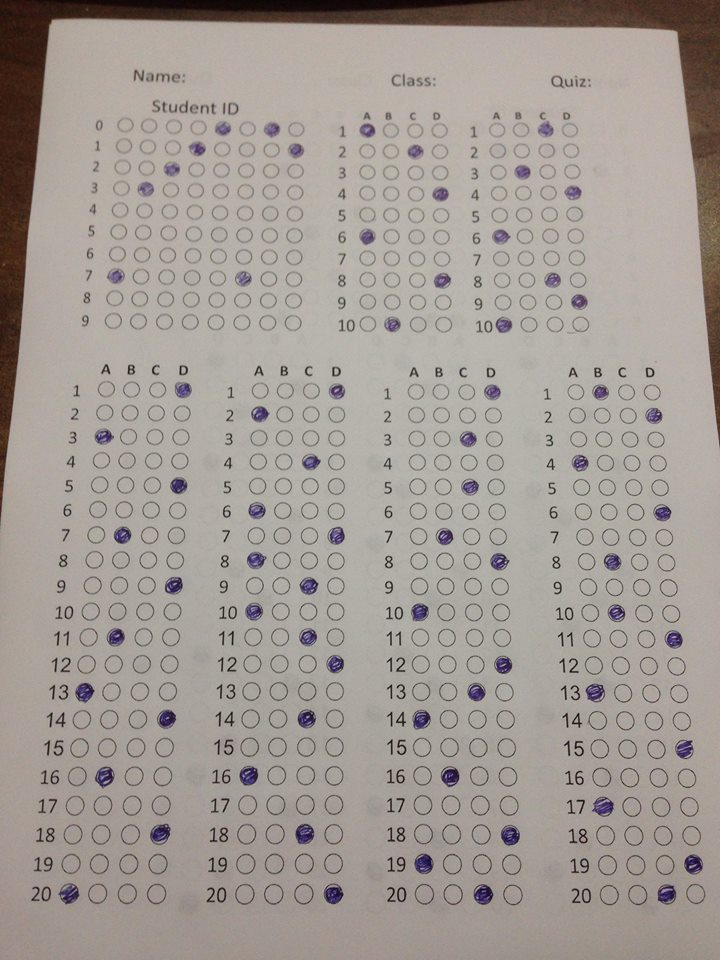not-c: (260, 882, 285, 907), (263, 823, 289, 847), (622, 822, 646, 848), (322, 765, 348, 788), (118, 881, 140, 908), (322, 822, 346, 846), (502, 883, 526, 907), (589, 766, 613, 790), (626, 883, 650, 907), (323, 793, 346, 818), (436, 736, 461, 759), (495, 737, 518, 762), (467, 767, 492, 790), (595, 853, 620, 876), (292, 852, 314, 878), (125, 709, 149, 732), (498, 767, 522, 790), (676, 795, 700, 818), (684, 882, 708, 905), (146, 852, 171, 874), (323, 852, 345, 877), (232, 883, 257, 905), (617, 767, 642, 789), (592, 825, 617, 847), (130, 652, 153, 675), (159, 653, 182, 676), (117, 853, 140, 876), (292, 884, 315, 907), (464, 653, 487, 676), (411, 765, 434, 788), (620, 797, 643, 820), (682, 824, 705, 847), (86, 475, 110, 497), (411, 822, 435, 844), (675, 765, 697, 789), (150, 792, 171, 817), (90, 852, 111, 877), (297, 527, 322, 548), (408, 738, 433, 759), (409, 794, 434, 815), (582, 655, 607, 676), (134, 601, 157, 623), (159, 626, 182, 648), (60, 824, 83, 846), (89, 825, 112, 847), (87, 882, 109, 905), (270, 600, 293, 622), (295, 765, 317, 788), (442, 823, 464, 846), (653, 526, 676, 548), (671, 710, 694, 732), (123, 794, 144, 818), (147, 882, 168, 906), (294, 792, 315, 816), (440, 794, 461, 818), (613, 709, 634, 733), (643, 711, 667, 732), (598, 883, 619, 907), (58, 854, 83, 874), (405, 576, 431, 595), (68, 738, 90, 760), (300, 499, 322, 521), (238, 737, 260, 759), (266, 764, 288, 786), (489, 602, 511, 624), (413, 883, 435, 905), (646, 453, 668, 475), (627, 551, 649, 573), (624, 854, 646, 876), (169, 453, 192, 474), (136, 575, 159, 596), (271, 500, 294, 521), (323, 709, 346, 730), (235, 794, 258, 815), (235, 824, 258, 845), (482, 405, 503, 428), (463, 602, 484, 625), (442, 854, 465, 875), (444, 882, 465, 905), (644, 381, 665, 404), (622, 476, 645, 497), (582, 602, 603, 625), (588, 738, 611, 759), (652, 826, 675, 847), (154, 735, 174, 759), (243, 525, 267, 545), (323, 683, 347, 703), (633, 628, 657, 648), (647, 739, 667, 763), (158, 679, 177, 704), (162, 601, 184, 622), (128, 680, 149, 702), (93, 795, 114, 817), (326, 501, 347, 523), (267, 708, 289, 729), (323, 736, 344, 758), (264, 852, 285, 874), (406, 451, 428, 472), (407, 503, 429, 524), (410, 626, 431, 648), (464, 629, 486, 650), (439, 654, 460, 676), (495, 710, 516, 732), (472, 823, 493, 845), (502, 855, 523, 877), (668, 683, 690, 704), (65, 766, 88, 786), (65, 794, 85, 817), (326, 601, 346, 624), (491, 629, 514, 649), (436, 681, 459, 701), (592, 454, 615, 474), (577, 576, 600, 596), (655, 854, 675, 877), (355, 248, 379, 267), (76, 627, 100, 646), (151, 766, 175, 785), (324, 629, 348, 648), (141, 476, 162, 497), (167, 524, 188, 545), (104, 653, 125, 674), (120, 824, 141, 845), (242, 680, 263, 701), (268, 736, 289, 757), (458, 406, 479, 427), (462, 525, 483, 546), (488, 525, 509, 546), (411, 653, 432, 674), (472, 855, 493, 876), (565, 381, 586, 402), (604, 575, 625, 596), (667, 656, 688, 677), (614, 682, 635, 703), (642, 684, 663, 705), (617, 739, 638, 760), (232, 311, 252, 333), (170, 427, 192, 447), (85, 525, 107, 545), (109, 549, 131, 569), (132, 627, 154, 647), (73, 707, 93, 729), (98, 710, 118, 732), (124, 765, 144, 787), (299, 405, 321, 425), (270, 549, 292, 569), (270, 655, 290, 677), (268, 682, 290, 702), (296, 682, 318, 702), (407, 405, 429, 425), (431, 382, 453, 402), (490, 577, 512, 597), (437, 626, 457, 648), (468, 795, 490, 815), (499, 796, 521, 816), (618, 404, 638, 426), (568, 429, 590, 449), (594, 428, 614, 450), (596, 478, 618, 498), (656, 553, 676, 575), (580, 629, 602, 649), (608, 629, 628, 651), (648, 766, 668, 788), (257, 247, 280, 266), (405, 248, 428, 267), (107, 577, 130, 596), (496, 680, 515, 703), (651, 796, 670, 819), (327, 549, 345, 573), (637, 657, 661, 675), (406, 185, 427, 205), (432, 227, 452, 248), (87, 499, 108, 519), (168, 501, 189, 521), (275, 427, 295, 448), (273, 452, 294, 472), (326, 453, 347, 473), (245, 574, 265, 595), (298, 601, 318, 622), (270, 627, 291, 647), (298, 655, 319, 675), (240, 708, 261, 728), (265, 794, 285, 815), (237, 854, 258, 874), (461, 500, 481, 521), (463, 578, 484, 598), (436, 602, 457, 622), (468, 709, 488, 730), (616, 382, 636, 403), (593, 406, 613, 427), (573, 528, 594, 548), (628, 525, 648, 546), (635, 604, 655, 625), (588, 711, 608, 732), (519, 315, 541, 334), (98, 738, 117, 760), (125, 738, 147, 757), (326, 406, 348, 425), (271, 526, 293, 545), (406, 527, 428, 546), (435, 552, 457, 571), (440, 708, 459, 730), (469, 738, 488, 760), (630, 578, 652, 597), (662, 604, 684, 623), (298, 735, 316, 758), (597, 504, 620, 522), (262, 141, 282, 161), (284, 291, 304, 311), (139, 526, 159, 546), (165, 550, 185, 570), (101, 683, 121, 703), (300, 476, 320, 496), (272, 577, 292, 597), (658, 578, 678, 598), (157, 245, 178, 264), (131, 267, 152, 286), (232, 291, 253, 310), (122, 378, 141, 399), (250, 429, 271, 448), (242, 654, 263, 673), (432, 429, 453, 448), (647, 432, 668, 451), (573, 503, 594, 522), (406, 227, 428, 245), (93, 404, 115, 422), (172, 405, 194, 423), (325, 429, 347, 447), (247, 452, 269, 470), (242, 628, 264, 646), (433, 450, 451, 472), (458, 453, 480, 471), (612, 656, 630, 678), (89, 452, 112, 469), (211, 182, 230, 202), (260, 204, 280, 223), (283, 248, 303, 267), (106, 288, 125, 308), (181, 291, 201, 310), (257, 314, 277, 333), (358, 142, 378, 161), (382, 248, 401, 268), (408, 293, 428, 312), (543, 249, 563, 268), (121, 402, 140, 422), (119, 428, 138, 448), (118, 452, 138, 471), (76, 656, 96, 675), (302, 429, 322, 448), (248, 475, 267, 495), (326, 477, 345, 497), (435, 500, 454, 520), (458, 384, 478, 403), (486, 453, 505, 473), (409, 552, 428, 572), (437, 577, 456, 597), (650, 479, 670, 498), (601, 528, 620, 548), (286, 121, 307, 139), (210, 224, 228, 245), (234, 248, 255, 266), (182, 268, 203, 286), (282, 315, 303, 333), (431, 206, 452, 224), (431, 251, 452, 269), (434, 293, 455, 311), (146, 381, 167, 399), (146, 404, 167, 422), (84, 551, 105, 569), (273, 404, 294, 422), (299, 551, 320, 569), (484, 429, 505, 447), (356, 272, 378, 289), (406, 478, 428, 495), (435, 475, 452, 497), (576, 554, 598, 571), (406, 432, 429, 448), (236, 182, 255, 201), (159, 223, 178, 242), (109, 602, 128, 621), (274, 477, 293, 496), (464, 551, 483, 570), (237, 204, 255, 224), (381, 227, 401, 245), (382, 294, 402, 312), (487, 121, 507, 139), (564, 206, 584, 224), (492, 249, 512, 267), (568, 249, 588, 267), (145, 451, 163, 471), (117, 476, 135, 496), (142, 500, 160, 520), (139, 549, 157, 569), (81, 602, 101, 620), (252, 382, 272, 400), (302, 382, 322, 400), (327, 576, 345, 596), (406, 383, 426, 401), (431, 406, 449, 426), (487, 478, 505, 498), (488, 504, 508, 522), (412, 682, 432, 700), (620, 431, 640, 449), (406, 272, 427, 289), (487, 164, 508, 181), (538, 184, 559, 201), (82, 577, 103, 594), (188, 117, 207, 135), (211, 204, 230, 222), (260, 226, 278, 245), (183, 246, 202, 264), (208, 270, 227, 288), (154, 313, 173, 331), (207, 314, 226, 332), (381, 163, 400, 181), (406, 164, 425, 182), (408, 207, 427, 225), (357, 293, 375, 312), (409, 315, 427, 334), (562, 142, 581, 160), (539, 162, 557, 181), (516, 205, 534, 224), (540, 205, 559, 223), (541, 228, 560, 246), (518, 270, 537, 288), (544, 295, 563, 313), (96, 380, 115, 398), (115, 501, 133, 520), (260, 183, 280, 200), (184, 225, 204, 242), (157, 268, 177, 285), (104, 312, 124, 329), (358, 316, 378, 333), (568, 272, 588, 289), (518, 294, 538, 311), (545, 316, 565, 333), (623, 453, 640, 473), (625, 503, 645, 520), (357, 206, 378, 222), (487, 143, 508, 159), (106, 247, 128, 262), (287, 204, 305, 222), (287, 227, 305, 245), (157, 290, 175, 308), (146, 428, 164, 446), (239, 120, 258, 137), (162, 179, 179, 198), (235, 227, 254, 244), (130, 310, 147, 329), (513, 142, 532, 159), (276, 382, 295, 399), (286, 184, 306, 200), (108, 223, 128, 239), (129, 291, 149, 307), (208, 292, 228, 308), (563, 163, 583, 179), (514, 185, 534, 201), (515, 228, 535, 244), (517, 249, 537, 265), (493, 295, 513, 311), (432, 316, 453, 331), (165, 138, 183, 155), (214, 141, 232, 158), (239, 141, 256, 159), (382, 122, 399, 140), (407, 122, 425, 139), (539, 141, 557, 158), (572, 315, 589, 333), (135, 222, 151, 241), (429, 123, 448, 139), (493, 272, 512, 288), (132, 248, 152, 263), (381, 186, 401, 201), (260, 292, 277, 309), (431, 144, 448, 161), (568, 227, 585, 244), (569, 408, 586, 425), (573, 480, 590, 497), (139, 138, 157, 154), (238, 162, 256, 178), (187, 182, 205, 198), (159, 203, 177, 219), (209, 248, 227, 264), (285, 272, 303, 288), (181, 313, 197, 331), (383, 208, 401, 224), (384, 272, 402, 288), (262, 163, 281, 178), (112, 180, 131, 195), (135, 203, 154, 218), (490, 207, 509, 222), (511, 124, 531, 138), (165, 118, 182, 134), (115, 159, 131, 176), (139, 159, 155, 176), (288, 161, 304, 178), (186, 203, 203, 219), (261, 271, 278, 287), (383, 143, 400, 159), (358, 184, 375, 200), (212, 163, 230, 178), (489, 186, 507, 201), (562, 124, 581, 138), (358, 166, 375, 181), (432, 165, 449, 180), (118, 117, 133, 133), (116, 137, 132, 152), (189, 162, 205, 177), (141, 118, 158, 132), (113, 203, 130, 216)
taken-c: (671, 735, 699, 761), (591, 795, 618, 821), (104, 623, 130, 649), (662, 626, 688, 652), (57, 880, 83, 905), (147, 823, 174, 847), (470, 881, 494, 908), (490, 654, 520, 675), (439, 764, 462, 791), (413, 851, 437, 876), (584, 682, 610, 705), (294, 819, 316, 846), (295, 706, 319, 730), (324, 654, 348, 677), (488, 549, 511, 573), (71, 681, 96, 703), (411, 707, 433, 732), (242, 600, 265, 623), (569, 451, 592, 474), (94, 766, 118, 788), (501, 824, 522, 849), (300, 452, 322, 475), (299, 575, 322, 597), (297, 627, 320, 649), (323, 883, 346, 905), (409, 600, 432, 622), (656, 882, 678, 905), (235, 765, 259, 786), (111, 526, 136, 546), (325, 382, 350, 402), (683, 851, 705, 873), (162, 576, 187, 595), (156, 708, 178, 729), (326, 526, 347, 548), (245, 549, 266, 571), (482, 380, 504, 401), (465, 680, 487, 701), (645, 404, 666, 426), (494, 315, 516, 336), (435, 525, 456, 546), (607, 603, 628, 624), (168, 475, 190, 495), (459, 476, 481, 496), (603, 552, 625, 572), (651, 503, 673, 523), (593, 380, 613, 402), (490, 225, 512, 245), (91, 426, 114, 445), (458, 430, 481, 449), (358, 226, 378, 247), (247, 500, 268, 520), (544, 269, 564, 290), (249, 405, 271, 424), (431, 270, 454, 288), (564, 182, 584, 202), (357, 121, 378, 140), (173, 380, 195, 398), (403, 141, 425, 159), (215, 120, 235, 139), (162, 159, 183, 177), (538, 121, 557, 140), (382, 317, 402, 335), (514, 164, 533, 182), (430, 184, 450, 201), (107, 266, 126, 283), (264, 119, 280, 139), (136, 181, 156, 197), (187, 141, 208, 156), (570, 294, 588, 311), (285, 141, 304, 157), (235, 270, 253, 286)
